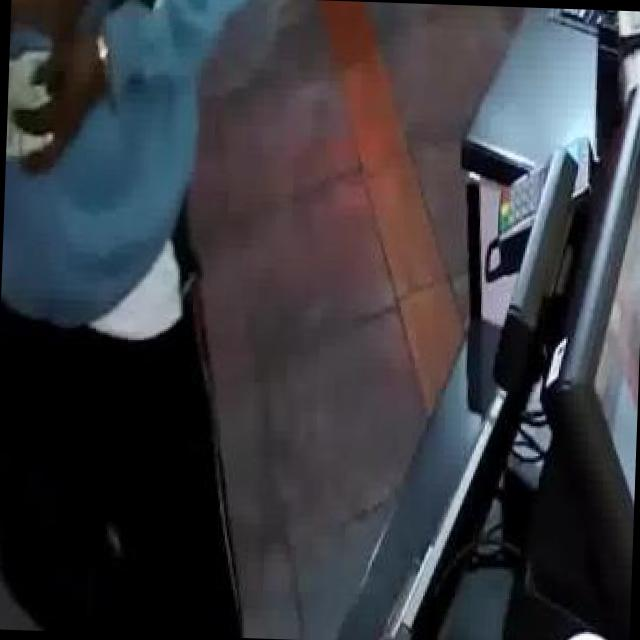Guns: (23, 0, 197, 45)
